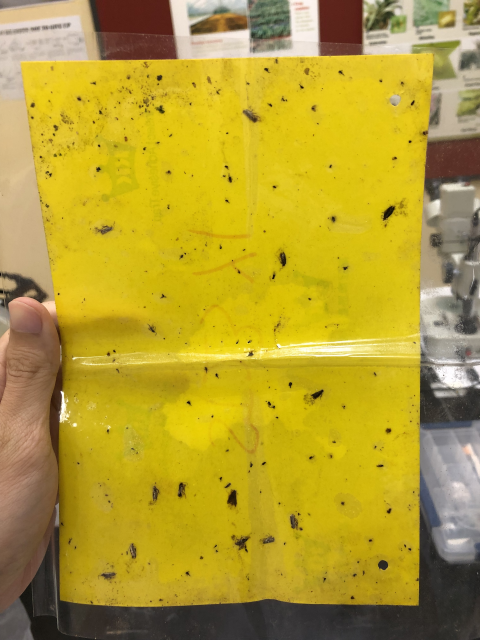DBM: (241, 105, 262, 126), (233, 532, 252, 554), (377, 203, 396, 222), (276, 250, 290, 273), (286, 511, 300, 532), (308, 387, 326, 403), (95, 570, 118, 581), (126, 542, 139, 561), (226, 488, 238, 507), (260, 533, 277, 546), (150, 483, 161, 503)
